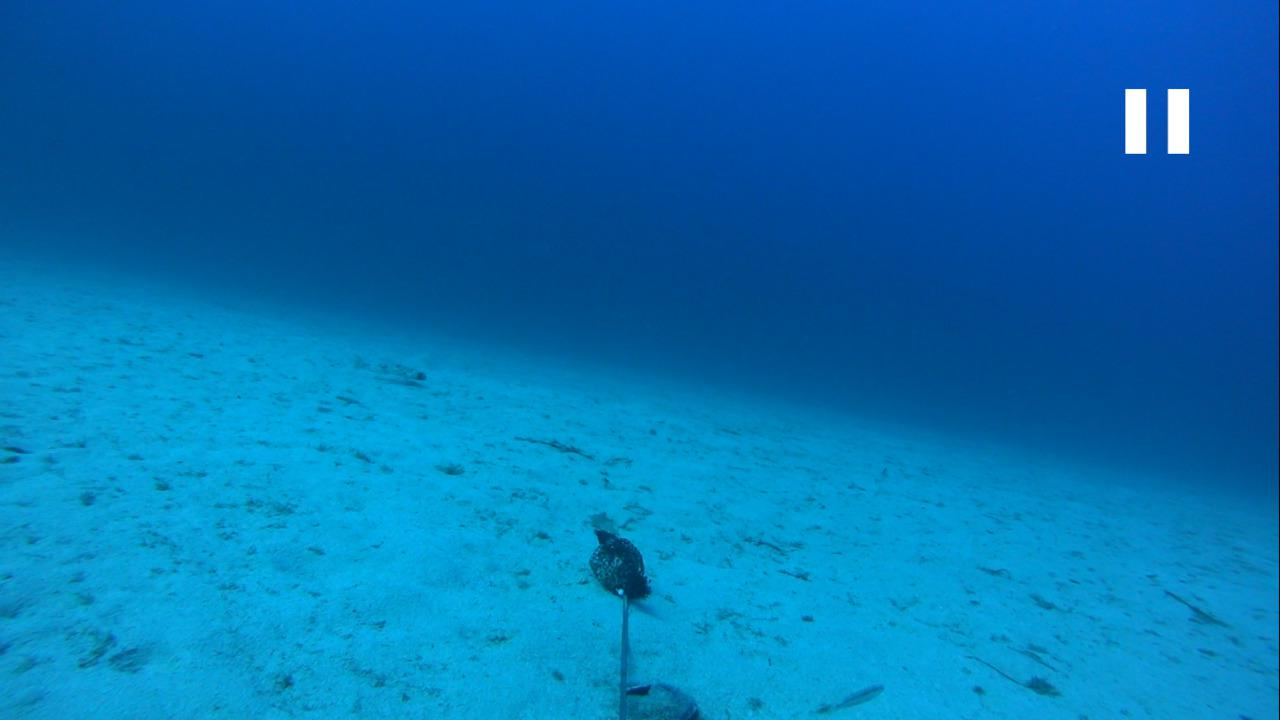dactylopterus: (342, 346, 431, 389)
